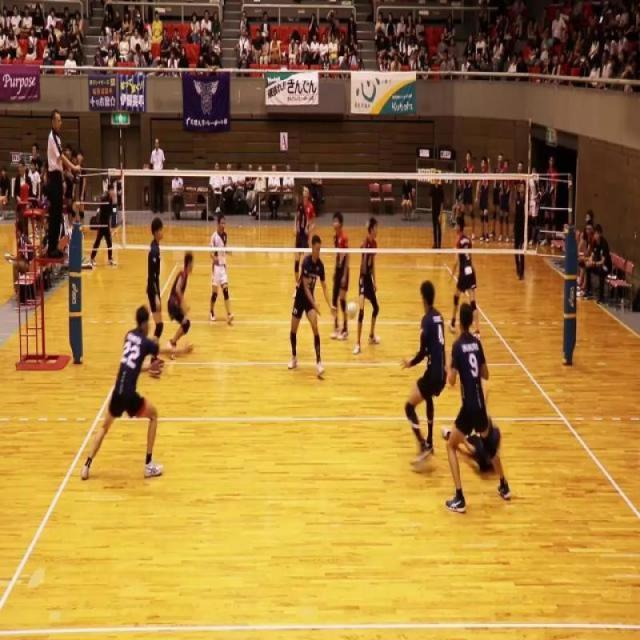volleyball: (345, 300, 357, 320)
